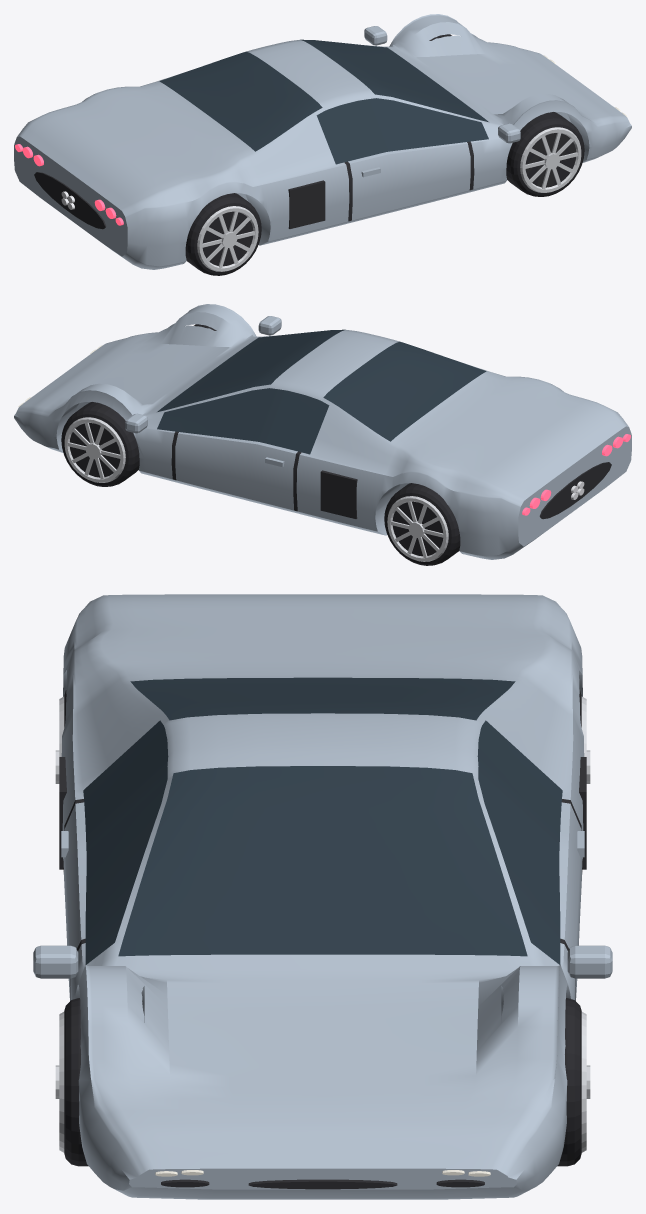
The model's file is pagany_wyra.fbx.
The picture shows the model from 3 angles, top to bottom: view 1: azimuth 30°, elevation 25°; view 2: azimuth 150°, elevation 25°; view 3: azimuth 270°, elevation 25°; orthographic projection. The views are drawn at different scales.
Parts seen in each view (by area): view 1: Body.037, Glass.037, Tire.037, Trim.037, Rim.037, TailLight.037; view 2: Body.037, Glass.037, Tire.037, Rim.037, Trim.037, TailLight.037; view 3: Body.037, Glass.037, Tire.037, Trim.037, Rim.037.
Part boxes in pixels (<box>): Body.037: <box>14,14,631,269</box>; Glass.037: <box>159,39,488,164</box>; Tire.037: <box>185,34,584,275</box>; Trim.037: <box>34,133,575,265</box>; Rim.037: <box>197,127,581,271</box>; TailLight.037: <box>15,144,123,225</box>; Body.037: <box>14,304,631,559</box>; Glass.037: <box>157,329,486,454</box>; Tire.037: <box>61,324,460,565</box>; Rim.037: <box>64,417,448,561</box>; Trim.037: <box>70,429,611,555</box>; TailLight.037: <box>522,434,630,515</box>; Body.037: <box>33,594,612,1199</box>; Glass.037: <box>83,677,562,964</box>; Tire.037: <box>64,690,581,1166</box>; Trim.037: <box>59,757,586,1189</box>; Rim.037: <box>55,696,590,1152</box>.
Size of the model in its own units: 1599 by 370 by 773.
